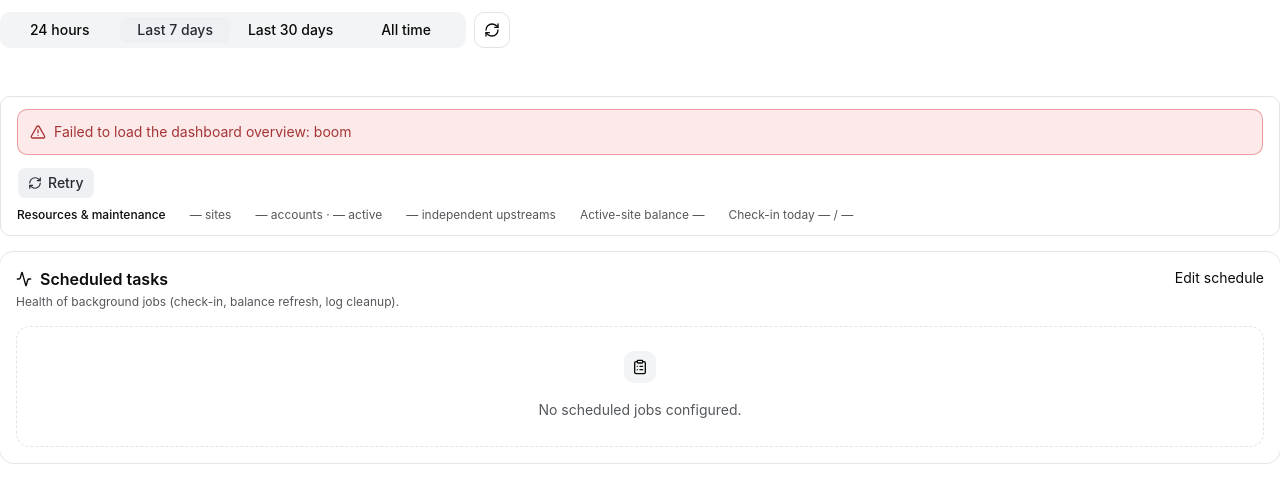
OverviewSection load-error branch › surfaces a snapshot failure with an error banner and a working Retry
Check: the message reads "Failed to load the dashboard overview: boom", box top-left (54, 123), bottom-right (352, 140)
Click the button "Retry": {"x": 56, "y": 183} top-left (17, 167), bottom-right (95, 199)
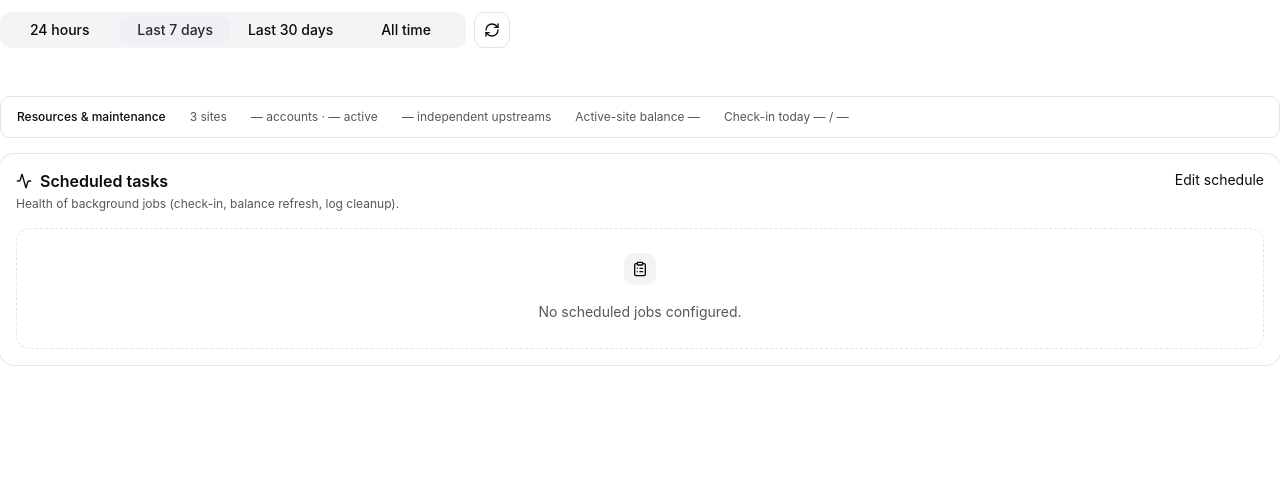
Check: the message "Failed to load the dashboard overview: boom" is gone
